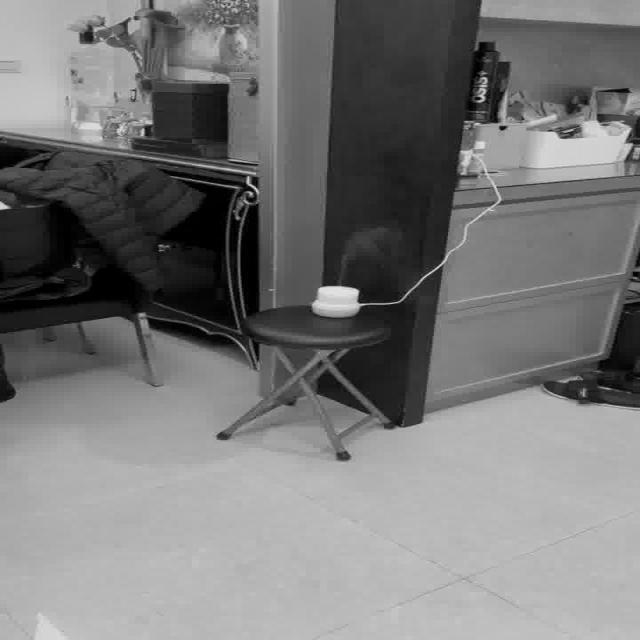fire: (333, 220, 401, 282)
